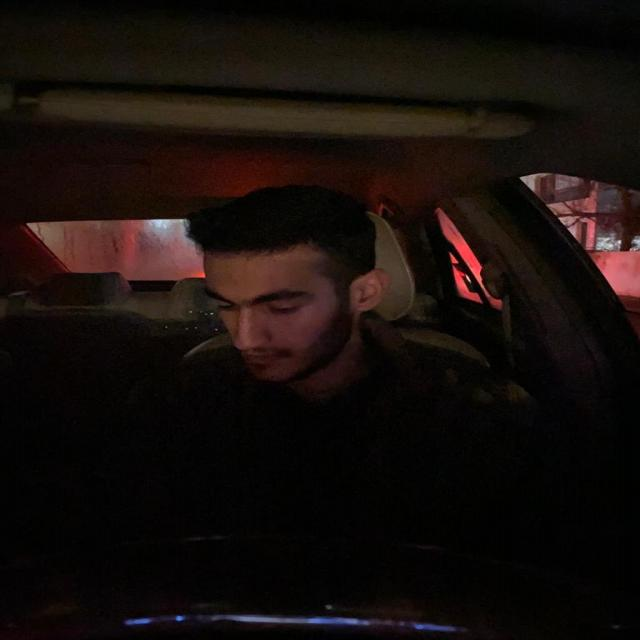drowsy: (188, 208, 397, 392)
